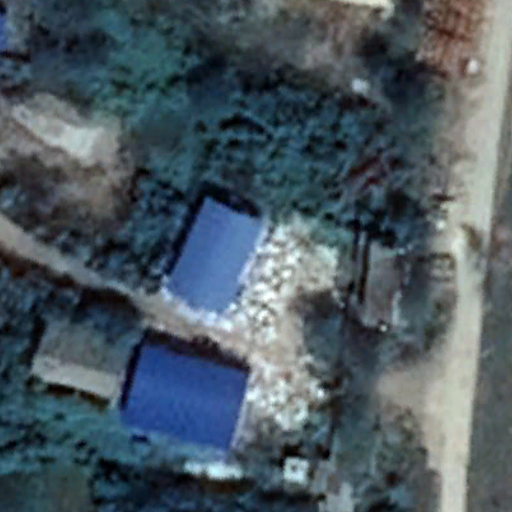msw: (226, 214, 341, 434)
